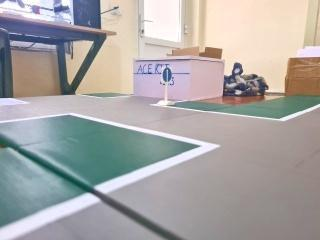straight: (159, 66, 175, 85)
